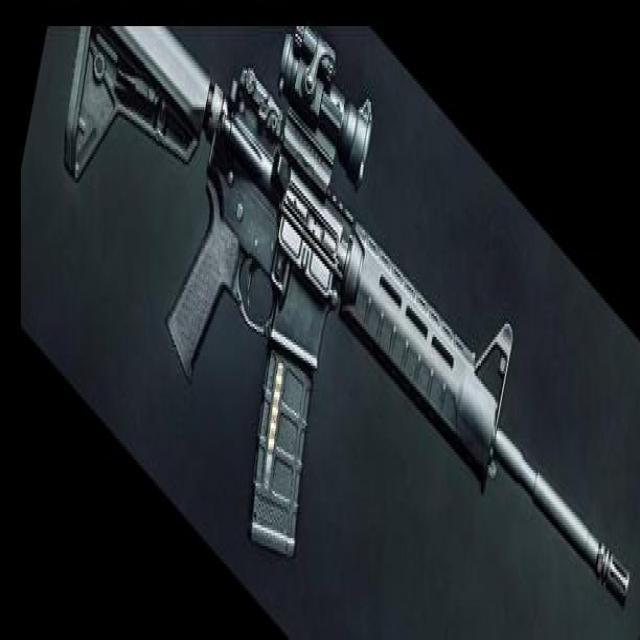weapon: (65, 26, 631, 612)
